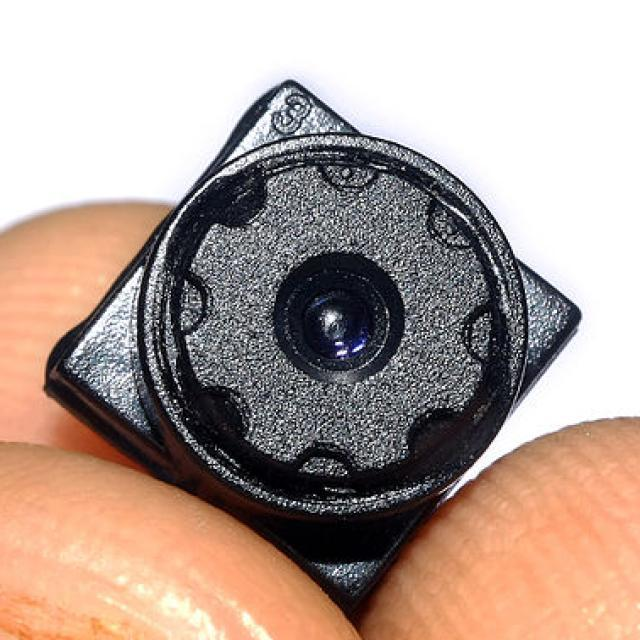hidden camera: (163, 139, 502, 496)
